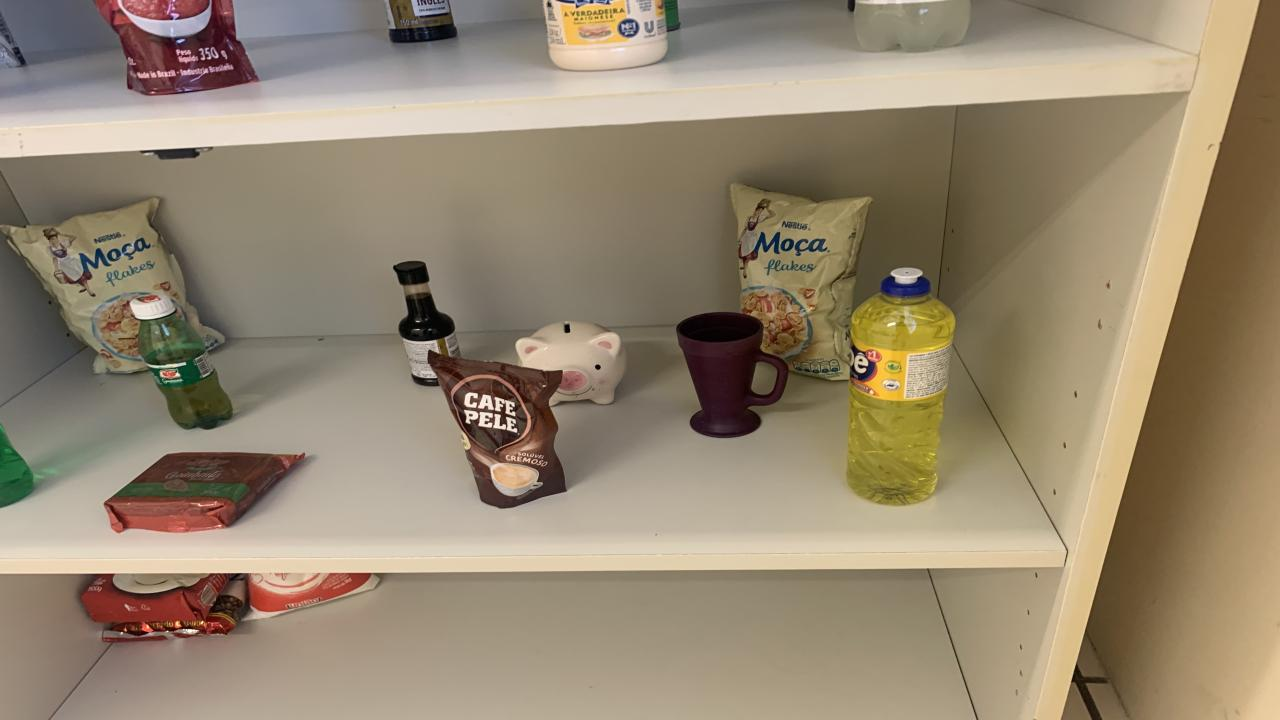Coffee-Pantry_Items: (430, 352, 565, 508)
Detergent-Cleanup_Items: (848, 268, 955, 504), (0, 426, 32, 506)
English_Sauce-Pantry_Items: (392, 261, 460, 386), (385, 0, 458, 43)
Flakes-Snacks: (0, 197, 225, 373), (730, 184, 872, 381)
Guarana-Drinks: (130, 294, 232, 429)
Guava-Snacks: (105, 452, 305, 532)
Mayonnaise-Pantry_Items: (542, 0, 668, 71)
Pig_Safe-Miscellaneous: (515, 321, 628, 405)
Pringles-Snacks: (665, 0, 680, 32)
Soda-Drinks: (855, 0, 970, 52)
Tomato_Sauce-Pantry_Items: (95, 0, 258, 94)
